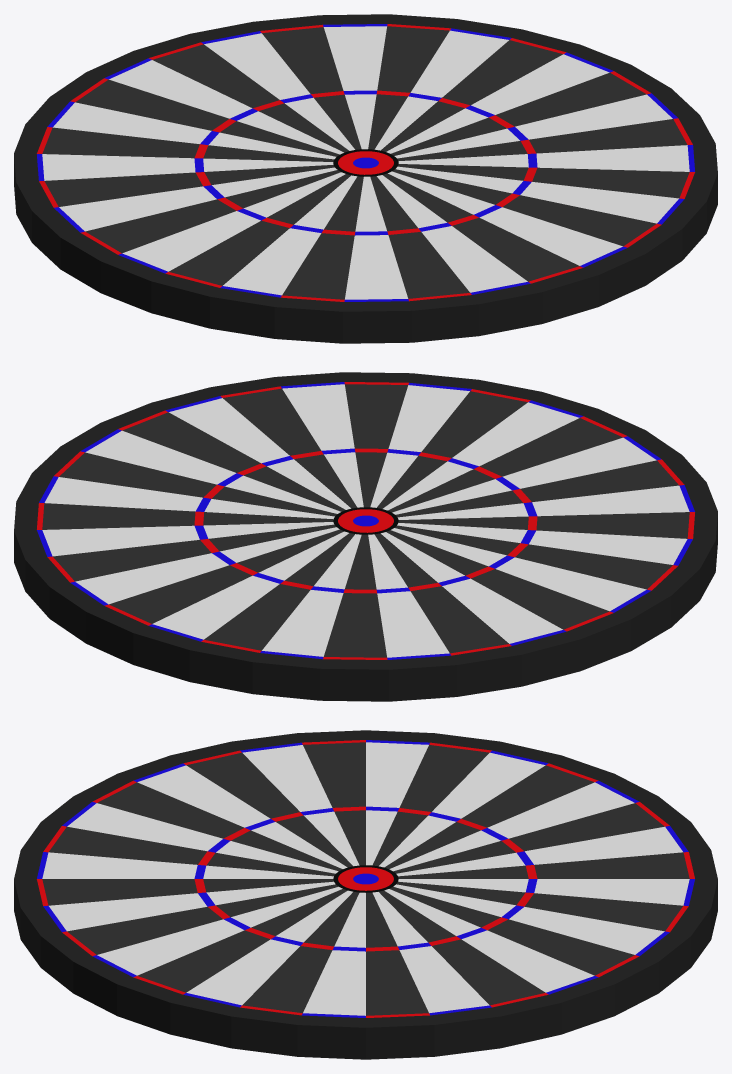
File: da-tubann.fbx
The picture shows the model from 3 angles, top to bottom: view 1: azimuth 30°, elevation 25°; view 2: azimuth 150°, elevation 25°; view 3: azimuth 270°, elevation 25°; orthographic projection.
Visible parts, largest first — view 1: 円柱; view 2: 円柱; view 3: 円柱.
Part boxes in pixels (x1,y1,x2,y2): 円柱: (14, 14, 717, 343); 円柱: (14, 372, 717, 701); 円柱: (14, 730, 717, 1059).
Size of the model in its own units: 198 by 9.89 by 198.
